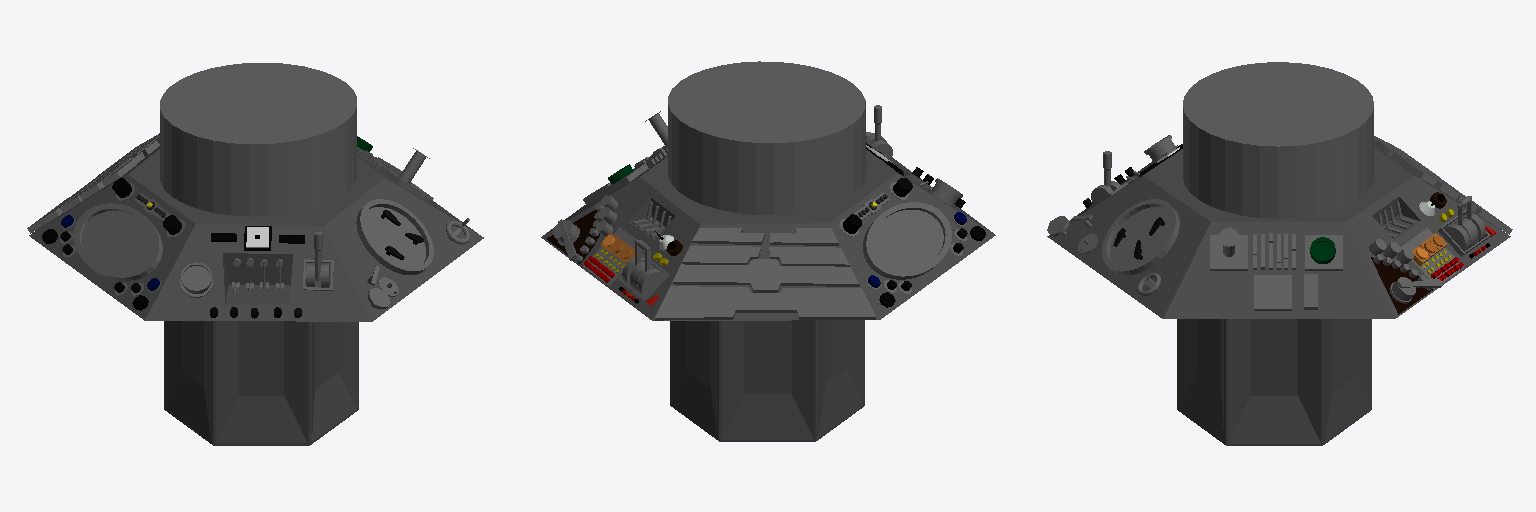
Rendered from tardis_panel.obj.
3 views of the same model, side by side, from view 1: azimuth 30°, elevation 25°; view 2: azimuth 150°, elevation 25°; view 3: azimuth 270°, elevation 25° (orthographic).
Parts seen in each view (by area): view 1: TableSurface_Cylinder.002, TablePower_Cylinder.004, TableBase_Cylinder, Cylinder.055_Cylinder.058, Cylinder.082_Cylinder.085, Plane.002_Plane.001, Cylinder.116_Cylinder.119; view 2: TablePower_Cylinder.004, TableBase_Cylinder, TableSurface_Cylinder.002, Plane.002_Plane.001, Cylinder.055_Cylinder.058, Plane.001_Plane, Plane_Plane.002; view 3: TableSurface_Cylinder.002, TablePower_Cylinder.004, TableBase_Cylinder, Cylinder.082_Cylinder.085, Plane.002_Plane.001, Cube.019_Cube.020, Cube.027_Cube.028, Plane.001_Plane, Cube.026_Cube.027, Plane_Plane.002, Cylinder.004_Cylinder.007.
Part boxes in pixels (bbox=[...]): TableSurface_Cylinder.002: bbox=[29, 146, 483, 321]; TablePower_Cylinder.004: bbox=[160, 63, 356, 216]; TableBase_Cylinder: bbox=[164, 321, 358, 445]; Cylinder.055_Cylinder.058: bbox=[74, 203, 162, 280]; Cylinder.082_Cylinder.085: bbox=[356, 199, 433, 274]; Plane.002_Plane.001: bbox=[27, 133, 159, 233]; Cylinder.116_Cylinder.119: bbox=[180, 262, 212, 297]; TablePower_Cylinder.004: bbox=[668, 61, 865, 214]; TableBase_Cylinder: bbox=[670, 320, 864, 441]; TableSurface_Cylinder.002: bbox=[541, 149, 995, 320]; Plane.002_Plane.001: bbox=[655, 228, 875, 320]; Cylinder.055_Cylinder.058: bbox=[863, 202, 951, 279]; Plane.001_Plane: bbox=[547, 210, 601, 263]; Plane_Plane.002: bbox=[583, 227, 642, 285]; TableSurface_Cylinder.002: bbox=[1047, 145, 1510, 318]; TablePower_Cylinder.004: bbox=[1183, 62, 1373, 218]; TableBase_Cylinder: bbox=[1177, 319, 1371, 445]; Cylinder.082_Cylinder.085: bbox=[1102, 199, 1179, 275]; Plane.002_Plane.001: bbox=[1374, 136, 1512, 234]; Cube.019_Cube.020: bbox=[1254, 275, 1291, 310]; Cube.027_Cube.028: bbox=[1210, 235, 1247, 270]; Plane.001_Plane: bbox=[1371, 257, 1432, 314]; Cube.026_Cube.027: bbox=[1305, 235, 1342, 270]; Plane_Plane.002: bbox=[1400, 228, 1463, 282]; Cylinder.004_Cylinder.007: bbox=[1310, 237, 1335, 263].
Bounding box in the file's own units: 4.03 × 3.46 × 4.79.